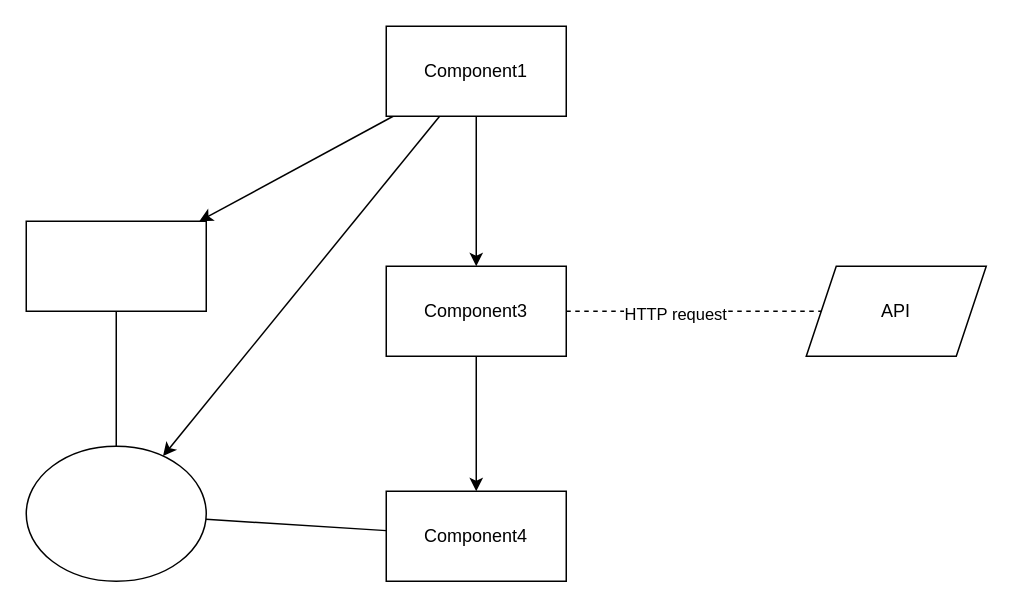
Some shapes in this 1013 by 608 pixel diagram are drawn without their labels. The centre of each missing label's shape, as x and y in pixels:
Component2: the point at 115,265
Shared State with React Context: the point at 115,513
